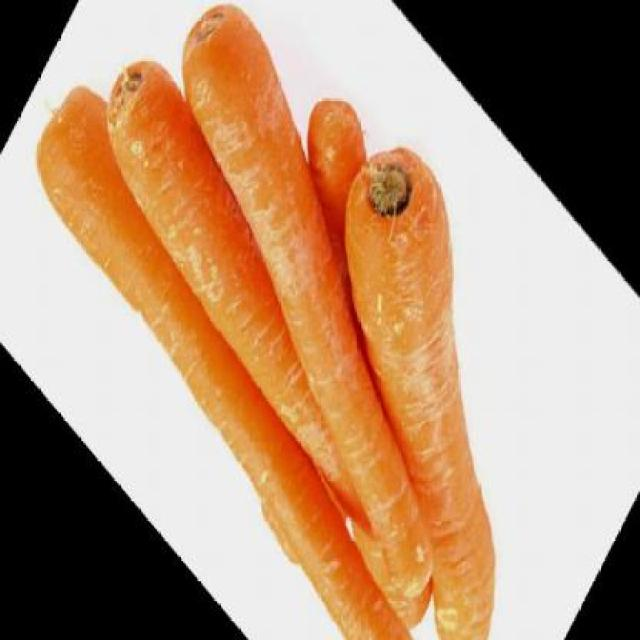carrot: (0, 59, 478, 638), (92, 0, 538, 608), (238, 116, 616, 638), (66, 34, 445, 544), (259, 76, 421, 321)
